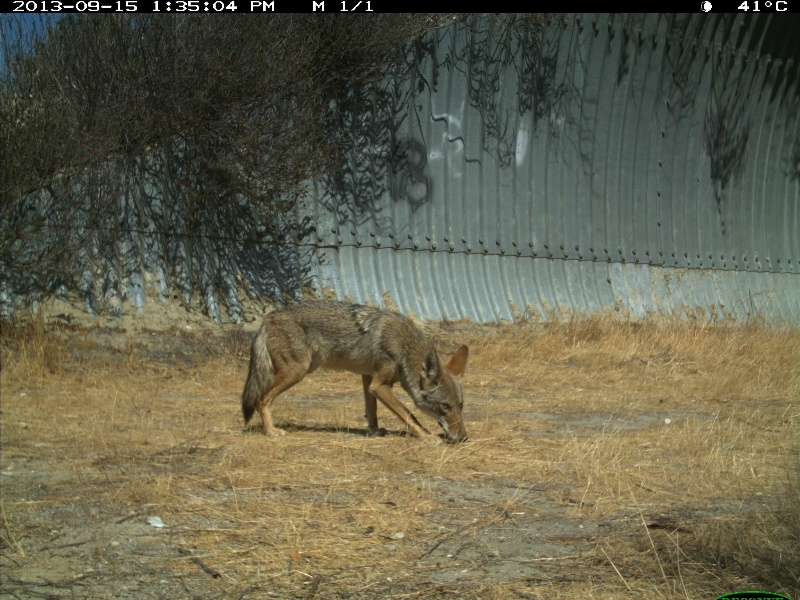coyote: (239, 295, 474, 448)
